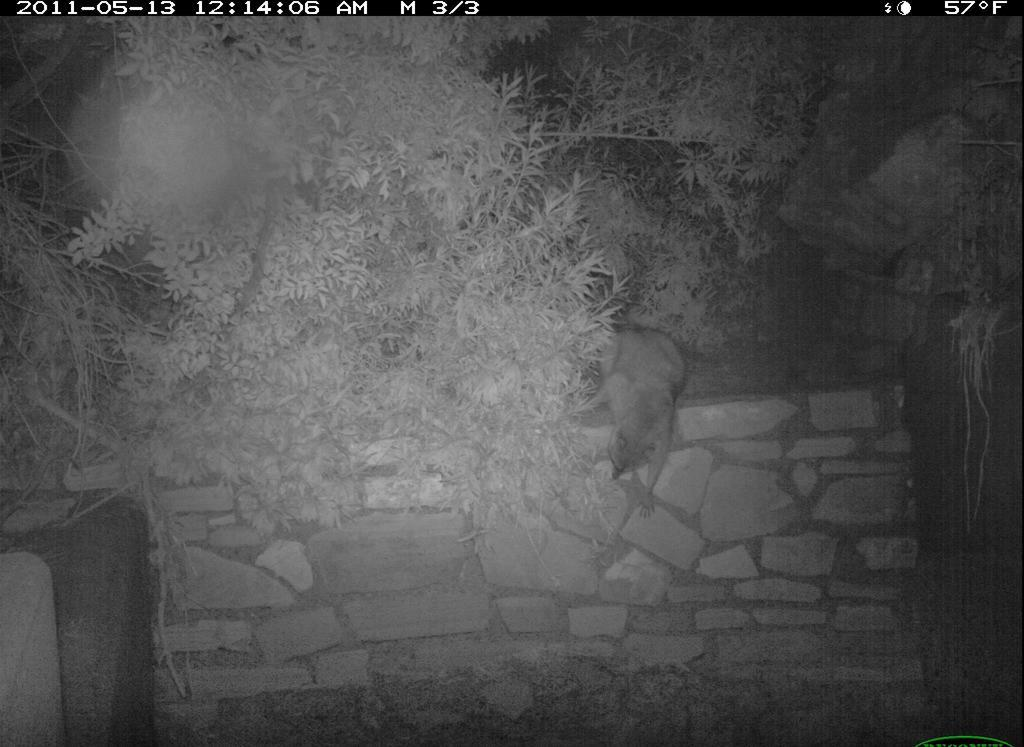raccoon: (585, 319, 696, 515)
